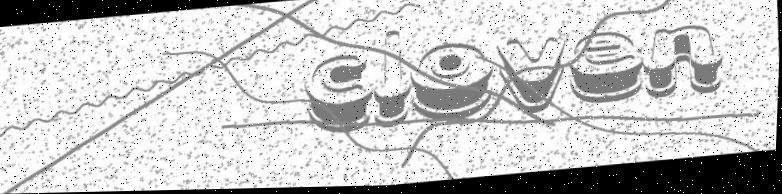c: (301, 52, 377, 139)
e: (567, 31, 647, 110)
l: (369, 30, 416, 132)
n: (641, 25, 726, 103)
o: (407, 41, 498, 126)
v: (493, 35, 571, 121)
